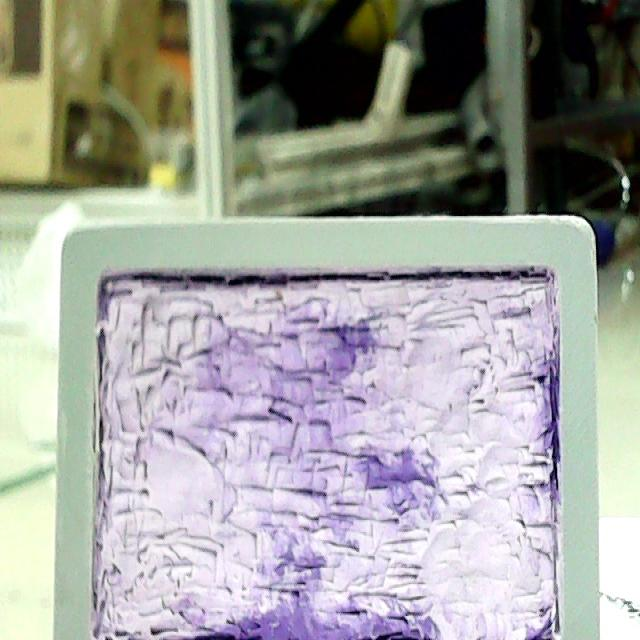block: (51, 216, 607, 640)
